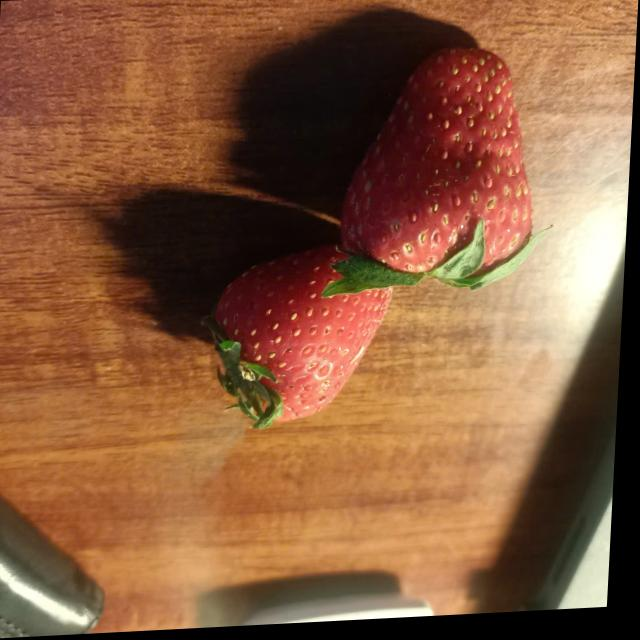DauTay: (336, 41, 554, 312), (204, 233, 402, 447)
